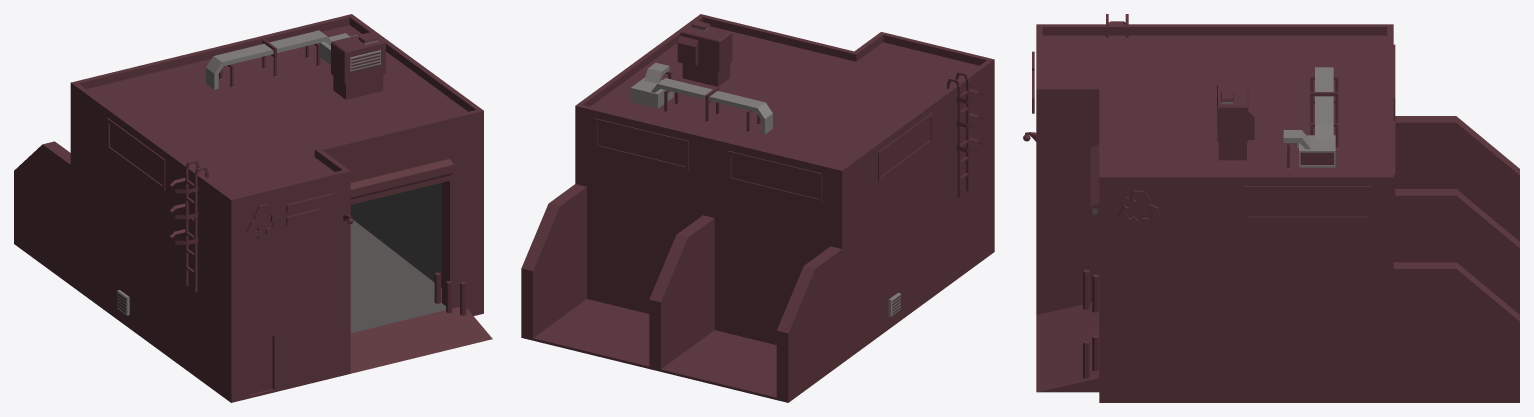
The model's file is landfill-small.fbx.
3 views of the same model, side by side, from view 1: azimuth 30°, elevation 25°; view 2: azimuth 150°, elevation 25°; view 3: azimuth 270°, elevation 25° (orthographic). The views are drawn at different scales.
Visible parts, largest first — view 1: landfill-small; view 2: landfill-small; view 3: landfill-small.
Boxes of the visible parts, x1,y1,x2,y2 form: landfill-small: [14, 14, 492, 402]; landfill-small: [521, 14, 994, 402]; landfill-small: [1023, 14, 1519, 402].
Bounding box in the file's own units: 12.5 × 9.67 × 15.75.
